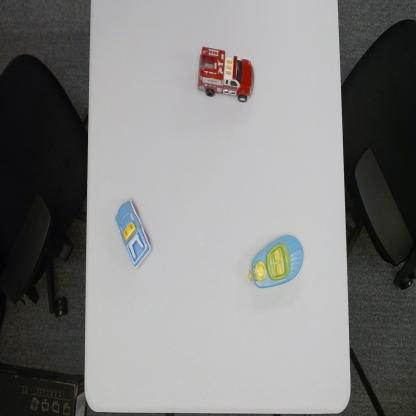Boat: (247, 232, 304, 290)
Car: (114, 197, 153, 270)
Firetruck: (197, 44, 255, 106)
